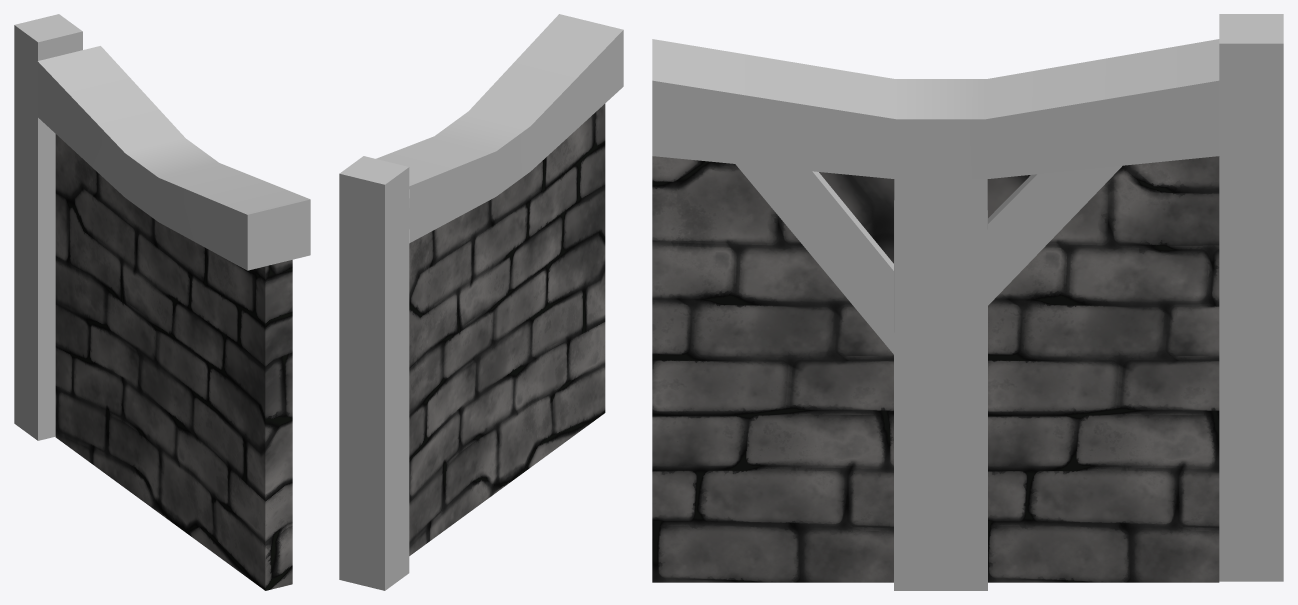
File: muur_3.fbx
3 renders of one model, left to right at view 1: azimuth 30°, elevation 25°; view 2: azimuth 150°, elevation 25°; view 3: azimuth 270°, elevation 25°, orthographic. The views are drawn at different scales.
Parts seen in each view (by area): view 1: muur_3, balk5; view 2: muur_3, balk5; view 3: muur_3, balk5.
Part boxes in pixels (x1,y1,x2,y2): muur_3: [37, 46, 310, 590]; balk5: [14, 14, 82, 440]; muur_3: [376, 14, 623, 555]; balk5: [339, 156, 409, 590]; muur_3: [652, 39, 1219, 590]; balk5: [1219, 14, 1283, 581].
Bounding box in the file's own units: 0.3476 × 2.1 × 2.23.
